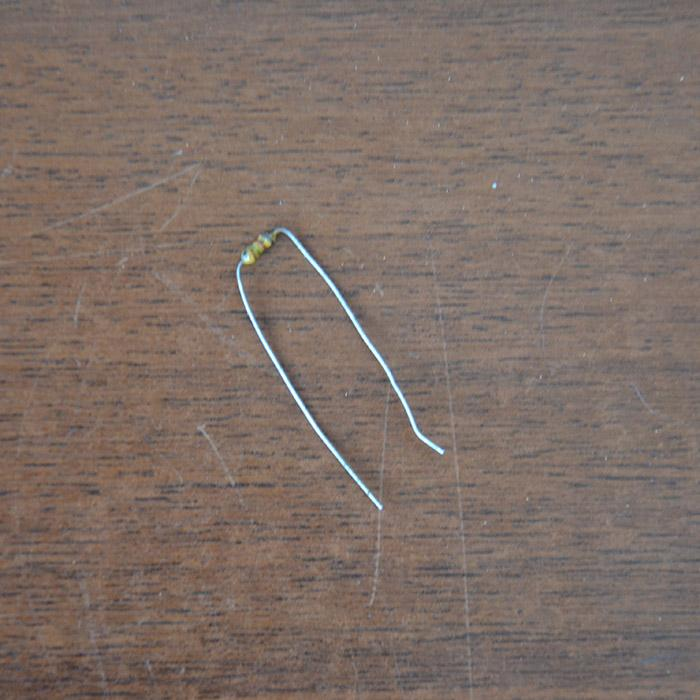resistor: (239, 228, 277, 264)
